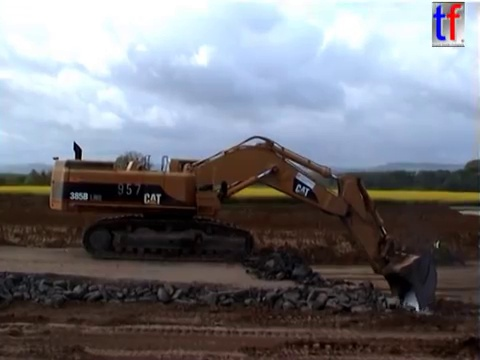excavator: (46, 133, 440, 321)
